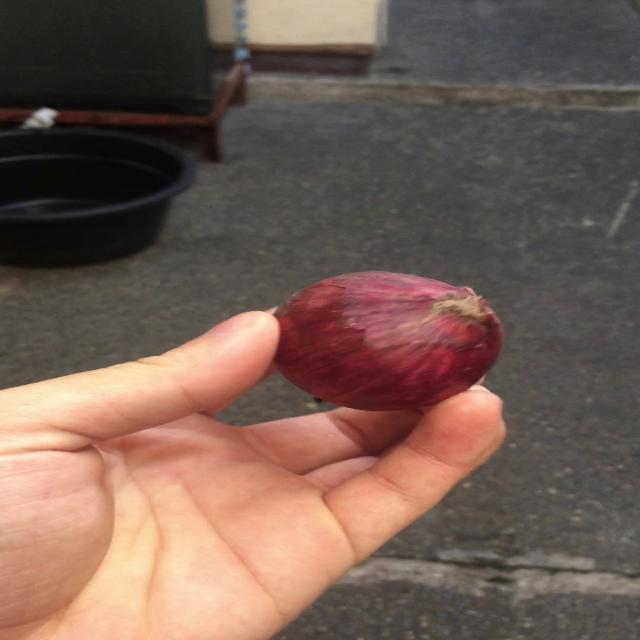Onion: (274, 271, 503, 411)
